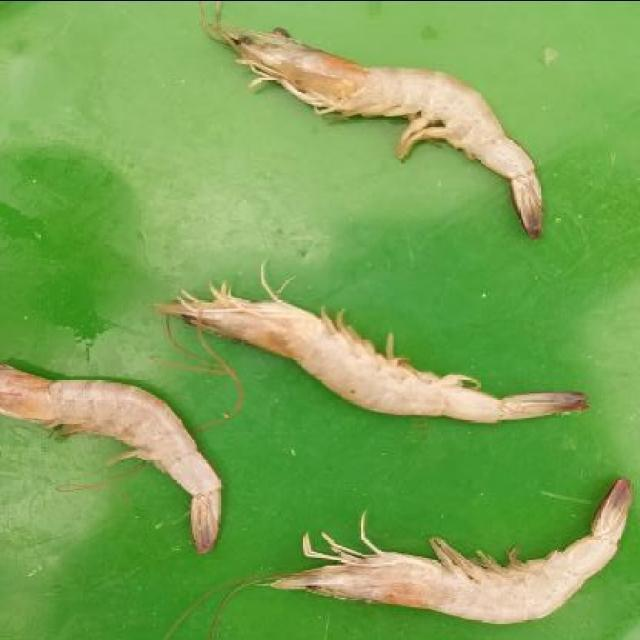shrimp: (212, 30, 540, 229), (162, 295, 578, 420), (3, 362, 218, 562), (316, 486, 637, 616)
